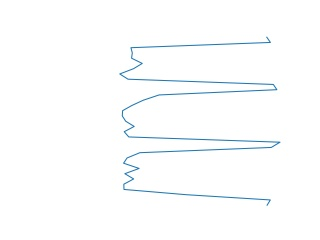majorRiverChannelBar: (115, 37, 283, 206)
